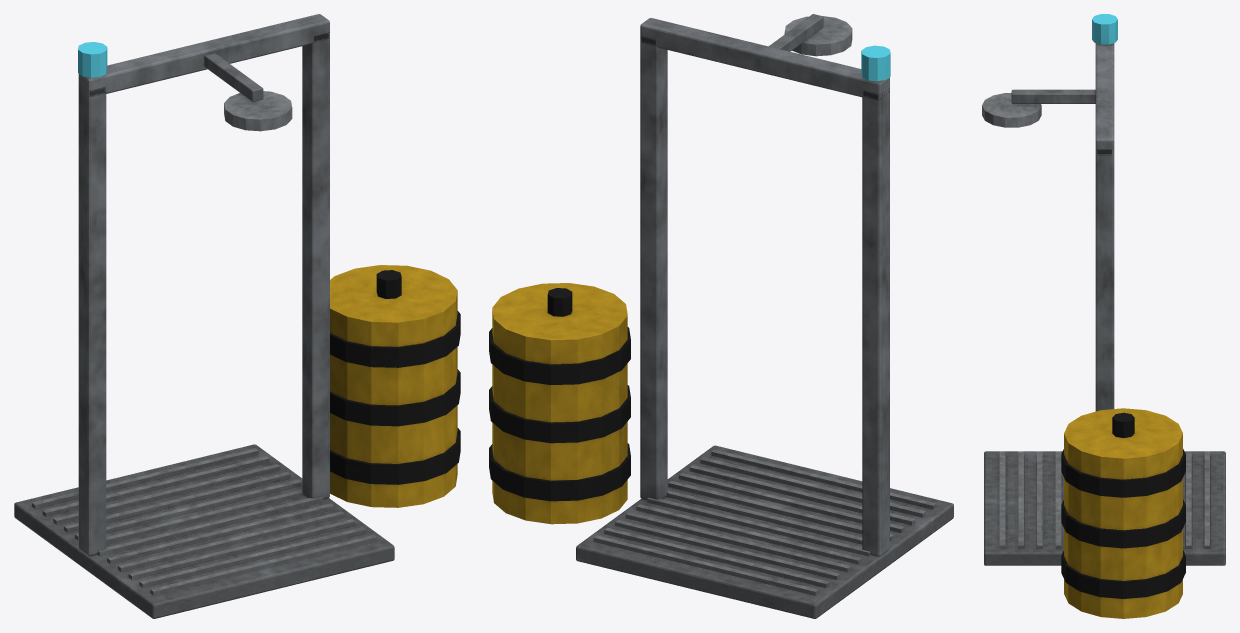
The model's file is mine_decon_shower.glb.
3 renders of one model, left to right at view 1: azimuth 30°, elevation 25°; view 2: azimuth 150°, elevation 25°; view 3: azimuth 270°, elevation 25°, orthographic. The views are drawn at different scales.
Visible parts, largest first — view 1: mine_decon_shower.001; view 2: mine_decon_shower.001; view 3: mine_decon_shower.001.
Boxes of the visible parts, left/top/right/bottom form: mine_decon_shower.001: left=14, top=14, right=460, bottom=618; mine_decon_shower.001: left=489, top=14, right=953, bottom=618; mine_decon_shower.001: left=982, top=14, right=1225, bottom=618.
Bounding box in the file's own units: 2.05 × 2.66 × 1.31.
5 materials, 5 textured.
